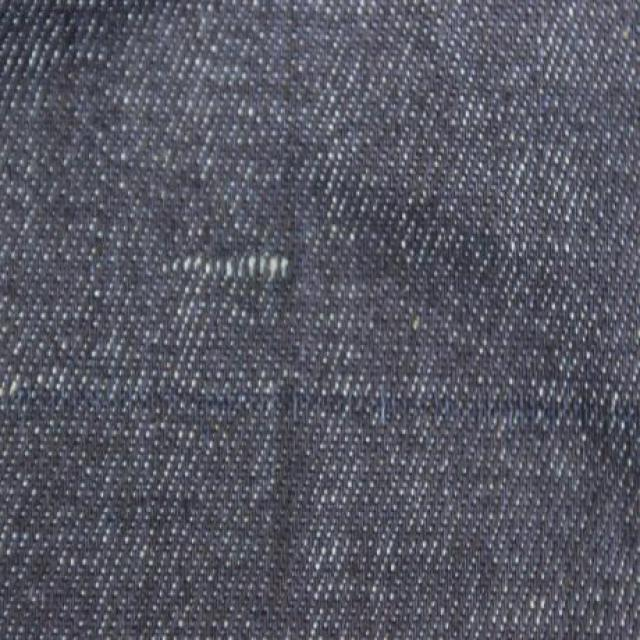stains: (118, 200, 319, 355)
